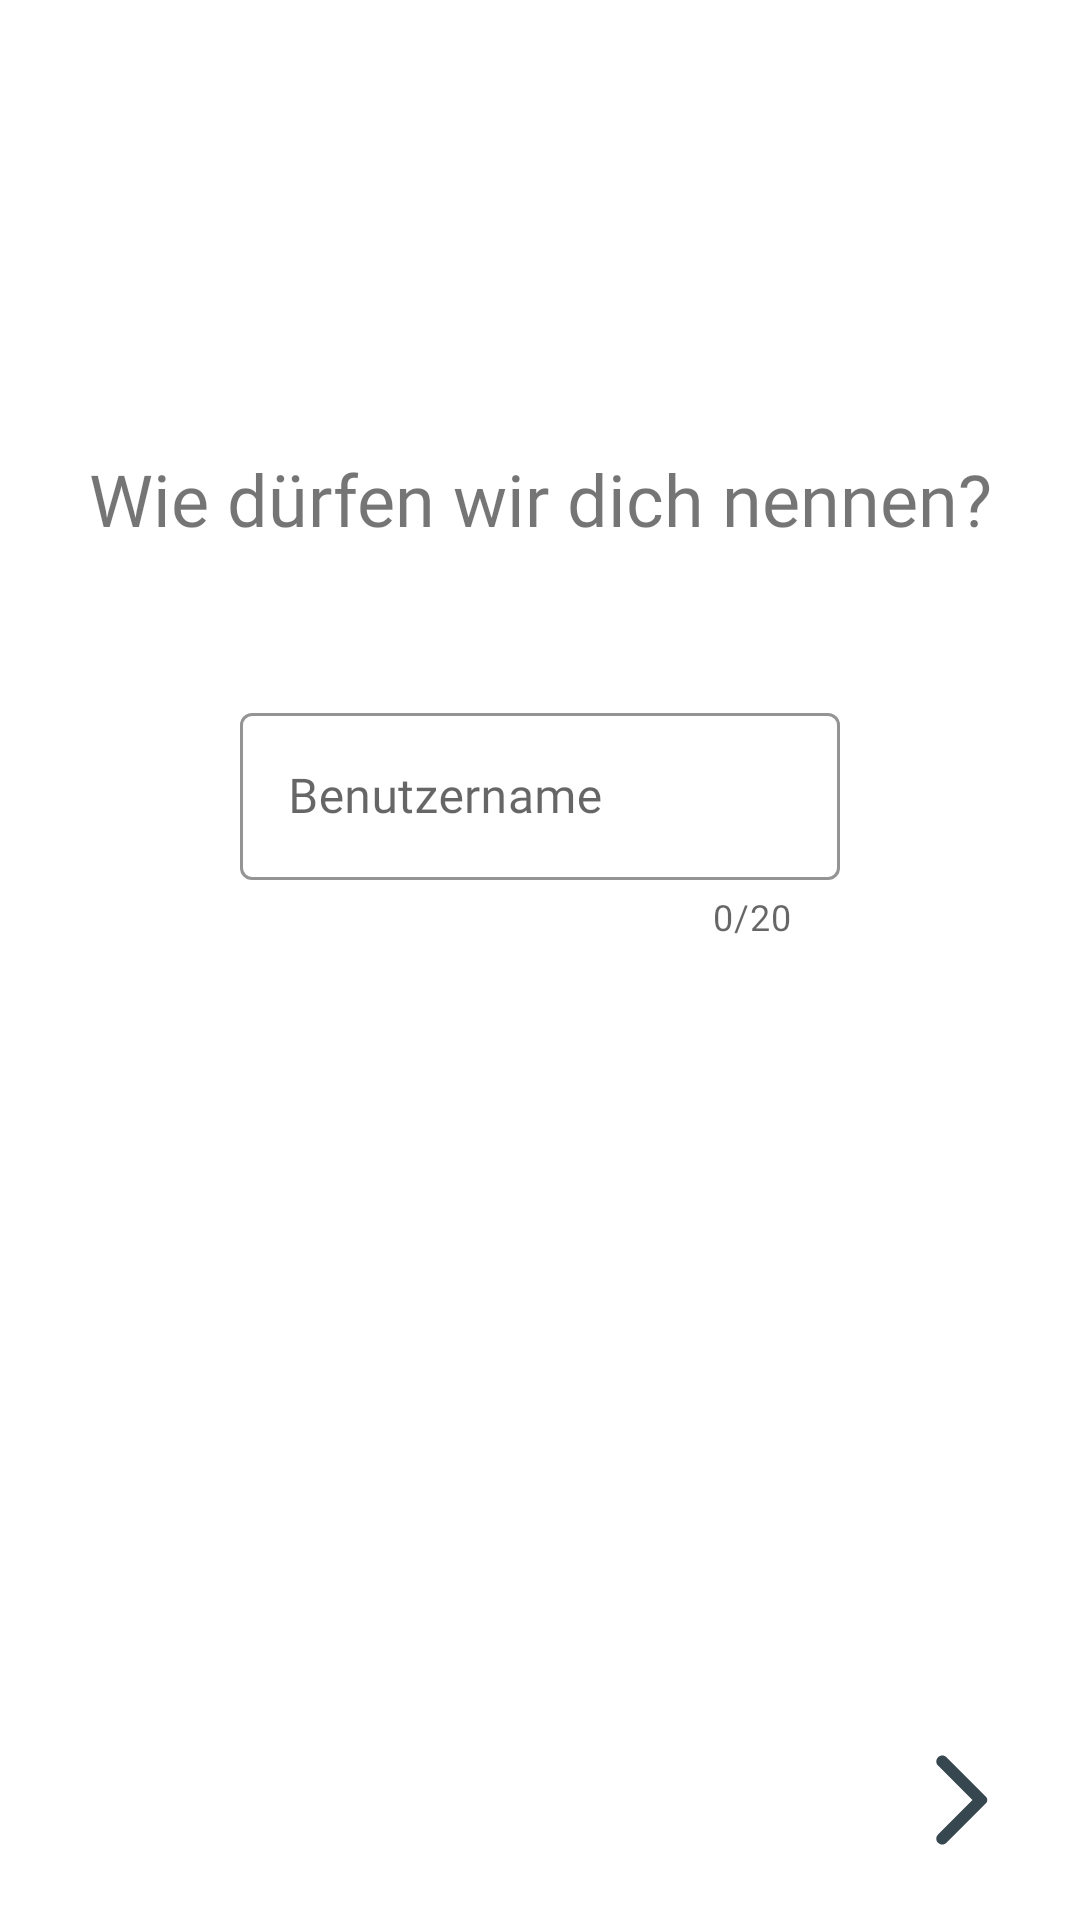

Icons on this 1080px×1920px Android screen, each with the point to tap as point (x, y):
weiter: point (962, 1800)
